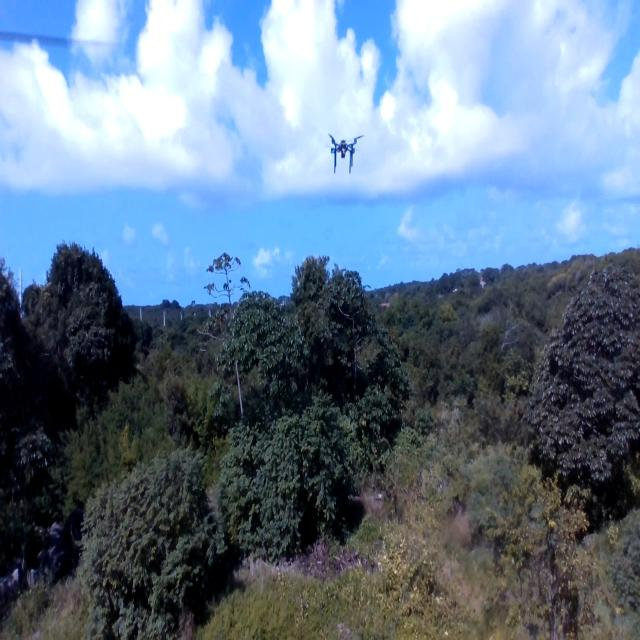-uav-: (320, 117, 367, 184)
